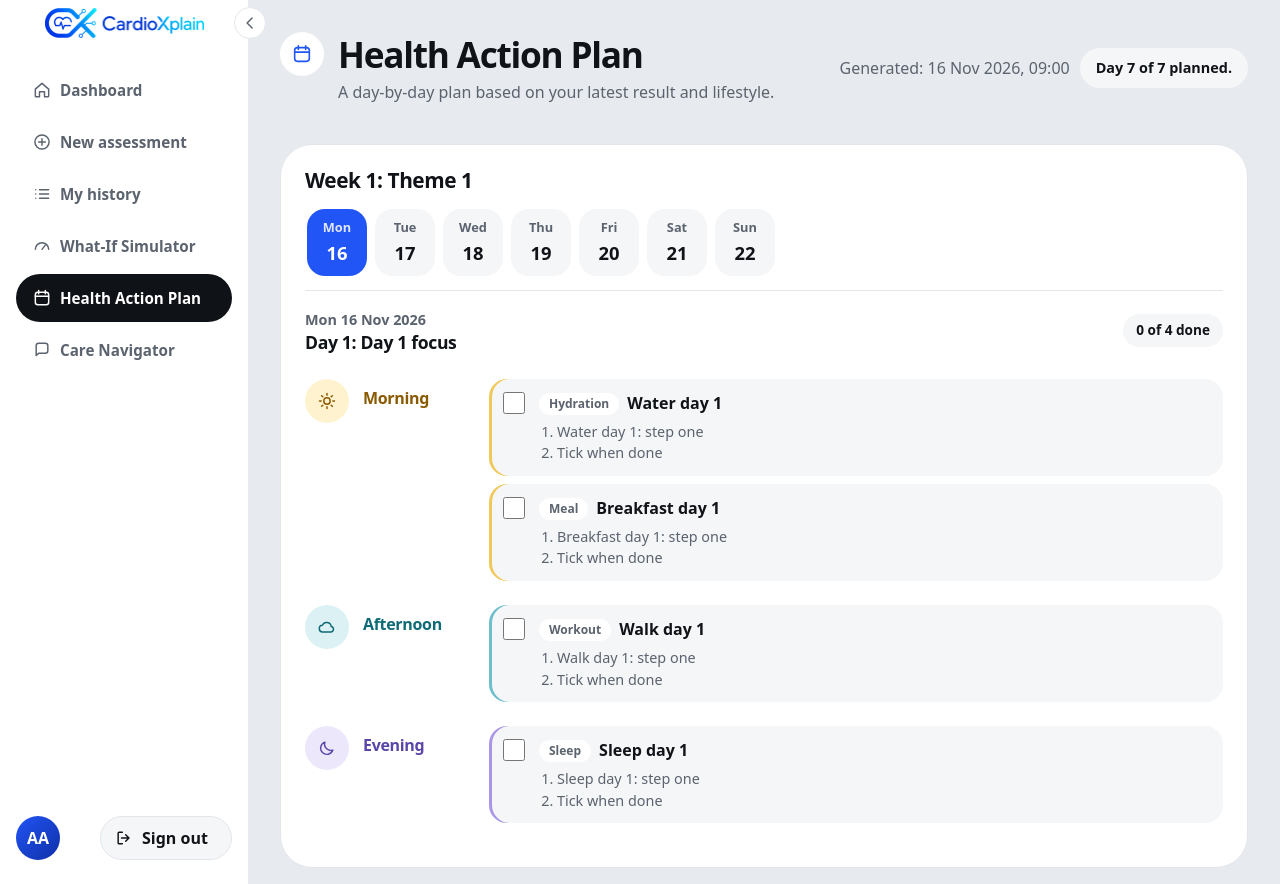
Test case: plan shows a day-by-day calendar with dates, time blocks and checklists
expect the heading "Week 1: Theme 1" is shown: met, box top-left (305, 166), bottom-right (473, 194)
expect the heading "Morning" is shown: met, box top-left (363, 386), bottom-right (429, 408)
Click the button "Sun 22": (745, 242) top-left (715, 209), bottom-right (775, 276)
(page scrolled)
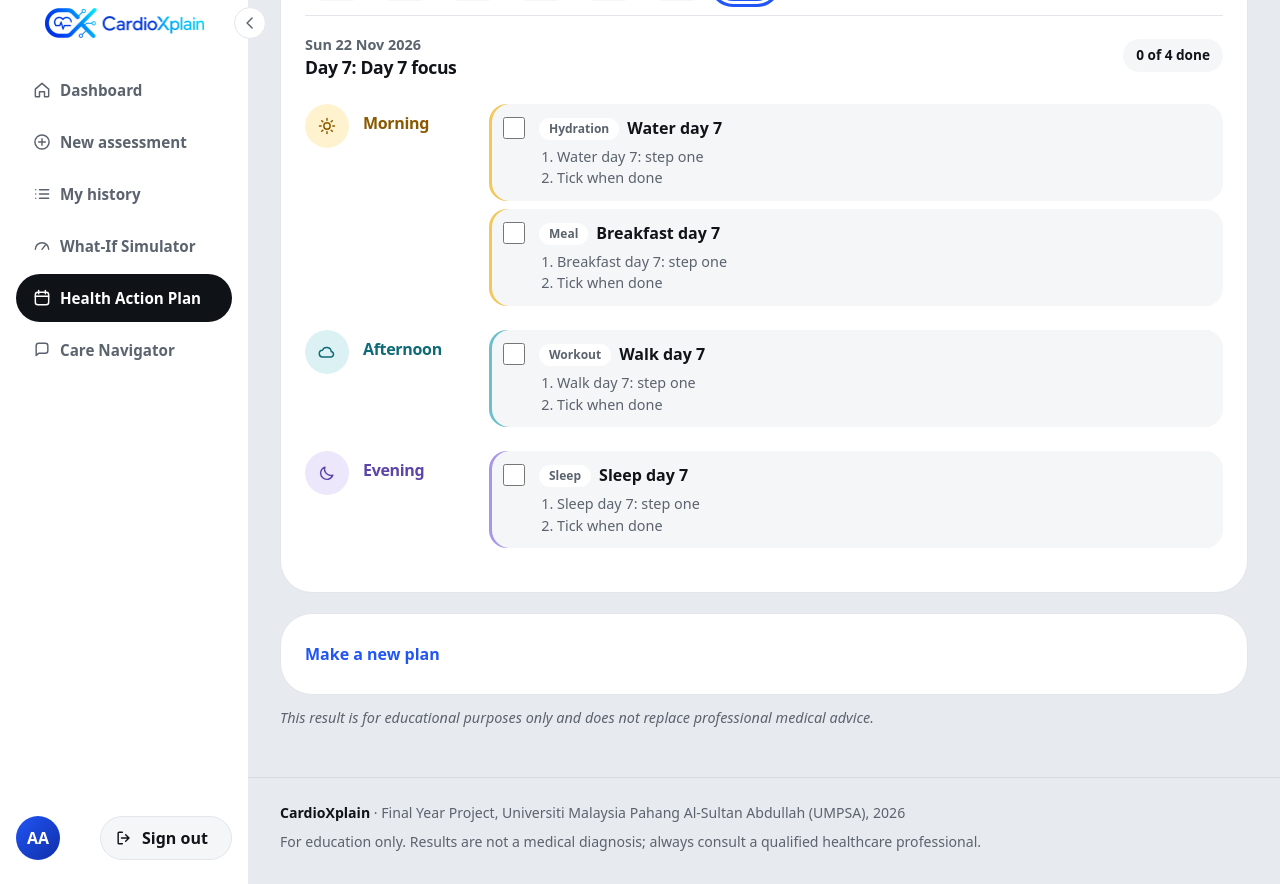
expect the text "This result is for educational purposes only and does not replace professional medical advice." is shown: met, box top-left (280, 708), bottom-right (874, 727)
expect the element named "Sun 22 Nov 2026, Day 7: Day 7 focus" is shown: met, box top-left (305, 15), bottom-right (1223, 568)
